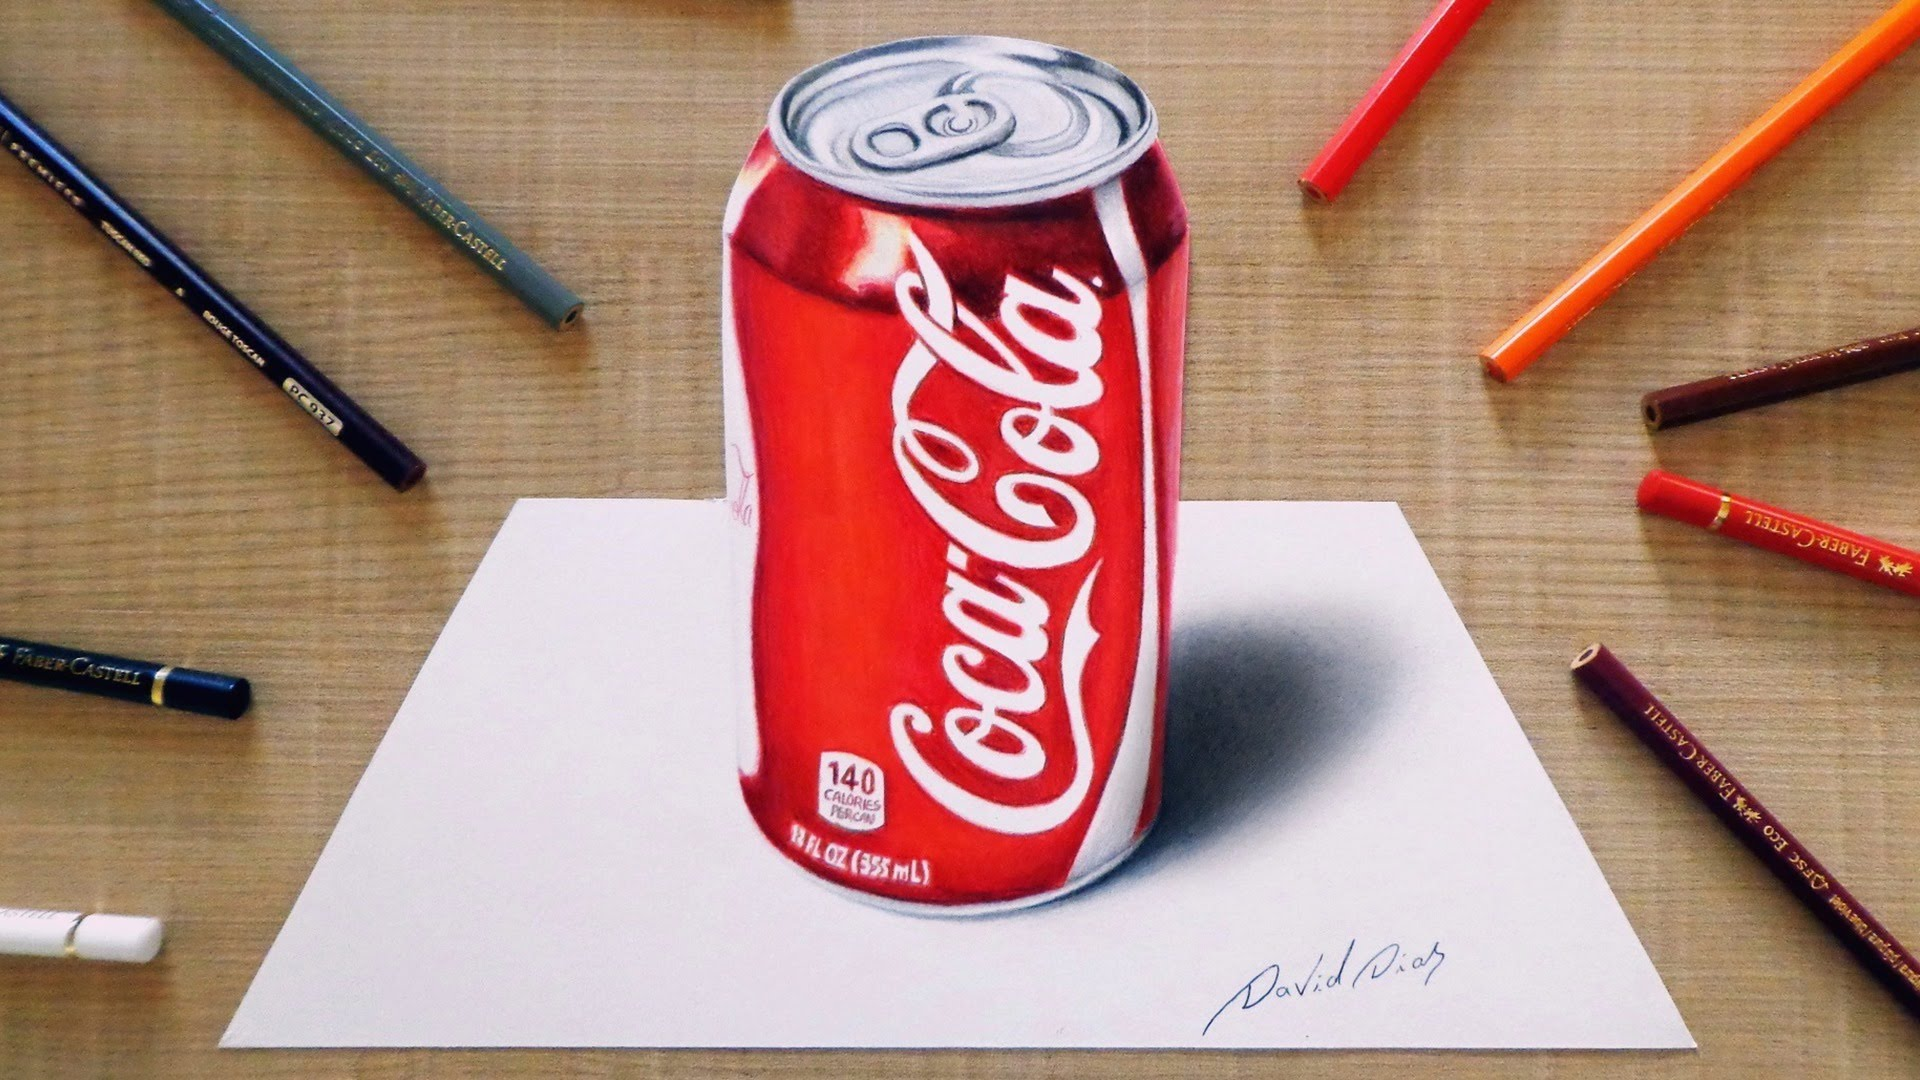coke: (721, 55, 1182, 903)
